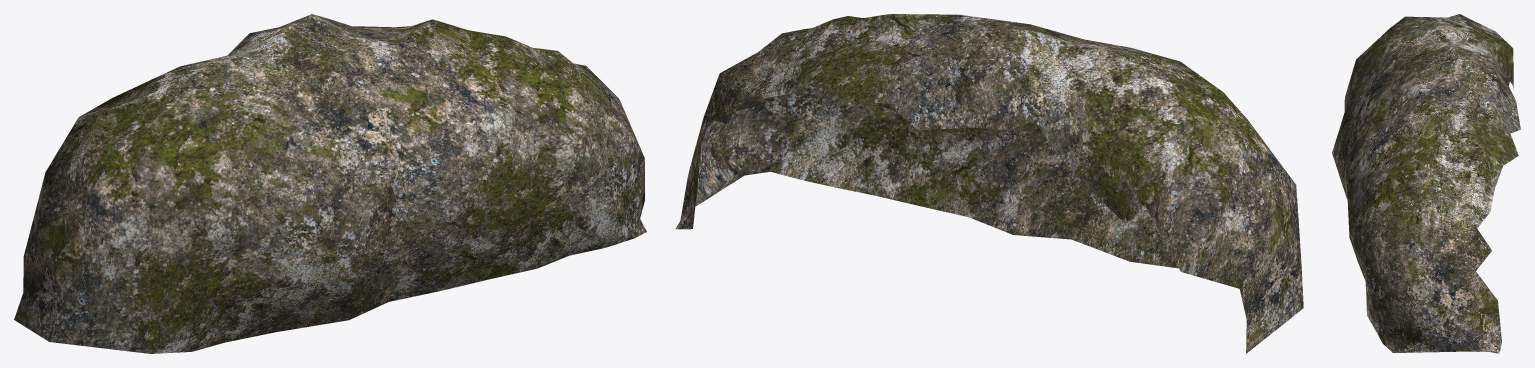
Rendered from rock-03.FBX.
3 renders of one model, left to right at view 1: azimuth 30°, elevation 25°; view 2: azimuth 150°, elevation 25°; view 3: azimuth 270°, elevation 25°, orthographic. The views are drawn at different scales.
Visible parts, largest first — view 1: rock3; view 2: rock3; view 3: rock3.
Part boxes in pixels (x1=…): rock3: x1=14, y1=14, x2=646, y2=353; rock3: x1=675, y1=14, x2=1303, y2=353; rock3: x1=1332, y1=14, x2=1520, y2=353.
Bounding box in the file's own units: 304 × 124 × 111.
1 material, 1 textured.
